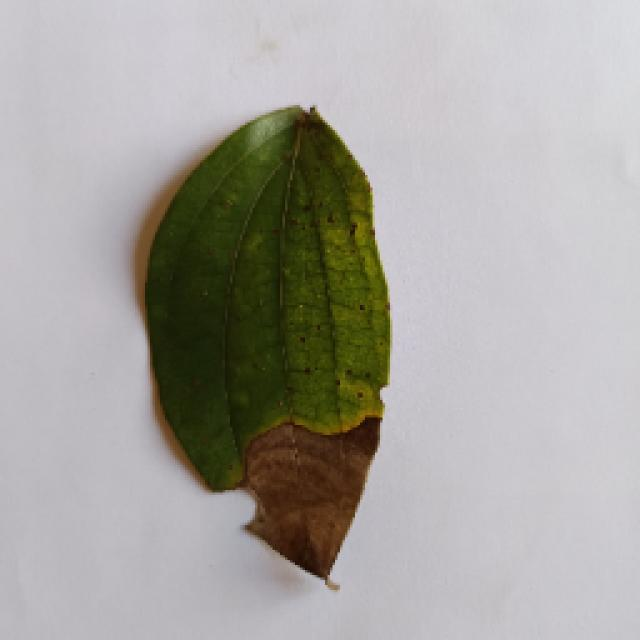footrot: (137, 105, 395, 587)
